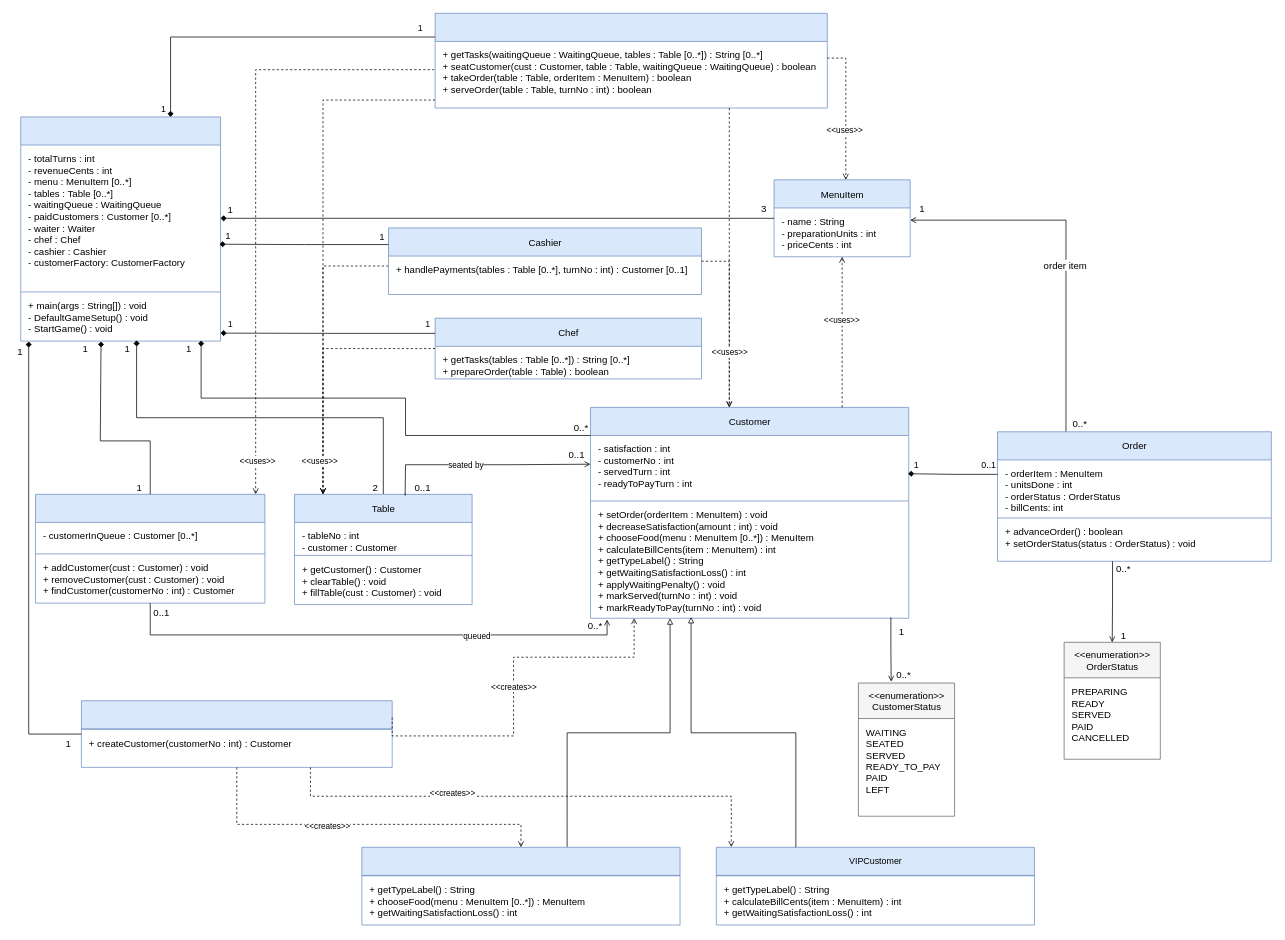
Image size: 1285x940. Some labels were removed from this diagram. The box of each missing label's shape, as (x1, y1, x2, y2) in pixels:
<<control>> RestaurantRushGame: (20, 116, 221, 341)
CriticCustomer: (361, 847, 680, 925)
CustomerFactory: (81, 700, 392, 767)
Waiter: (434, 13, 827, 108)
WaitingQueue: (35, 494, 265, 603)
